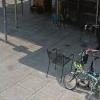Bicycle: (60, 45, 96, 100)
